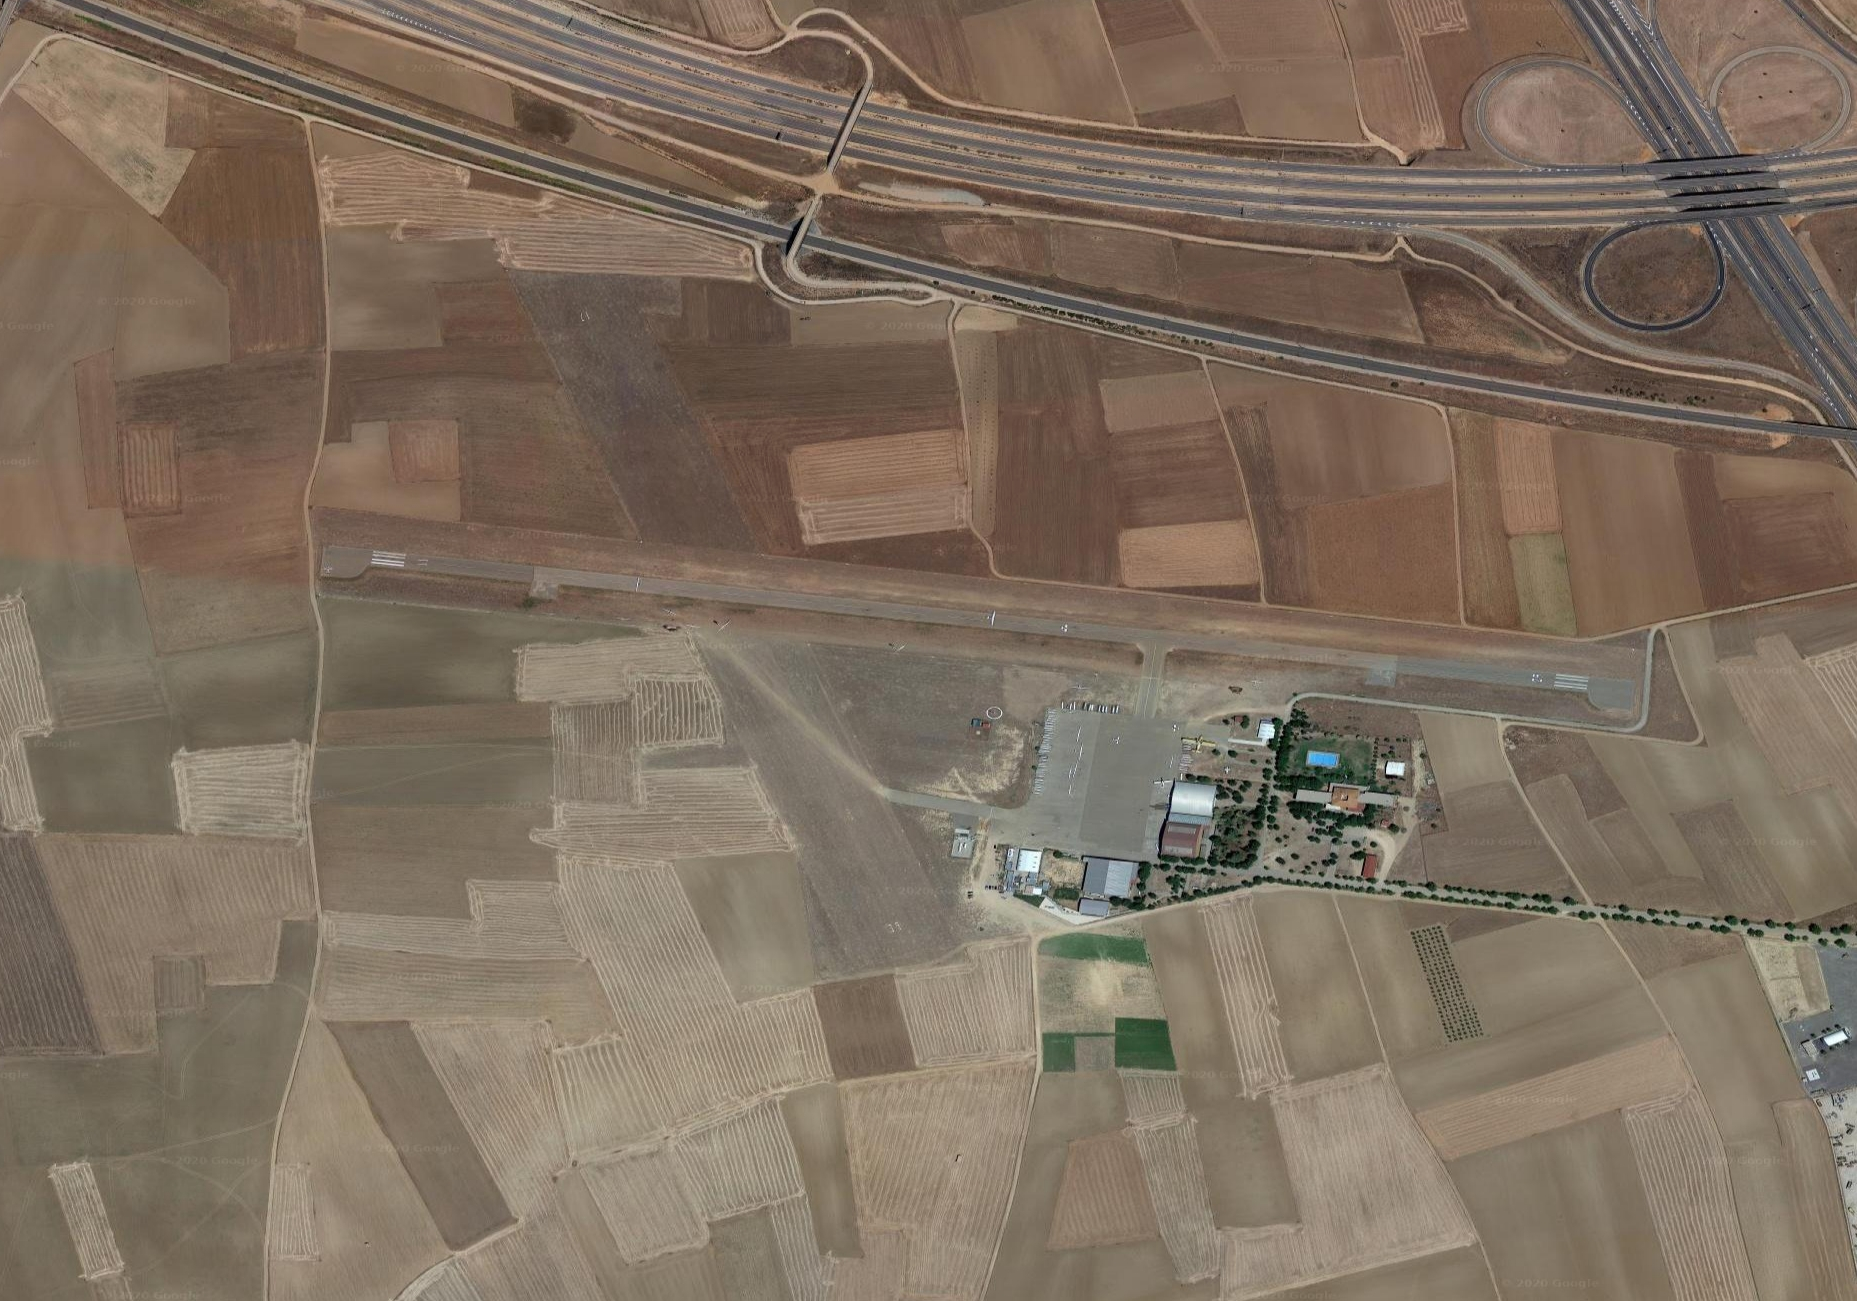airport: (315, 538, 1645, 881)
motorway: (533, 1, 875, 171), (876, 96, 1281, 231), (1667, 145, 1857, 404), (1278, 141, 1665, 234), (776, 214, 1051, 332), (502, 141, 778, 257), (1053, 281, 1326, 397), (268, 63, 505, 182), (1328, 334, 1609, 418), (1575, 1, 1723, 157), (40, 1, 277, 96), (1613, 388, 1857, 452)
